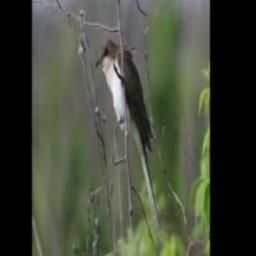Cuckoo: (95, 36, 161, 241)
